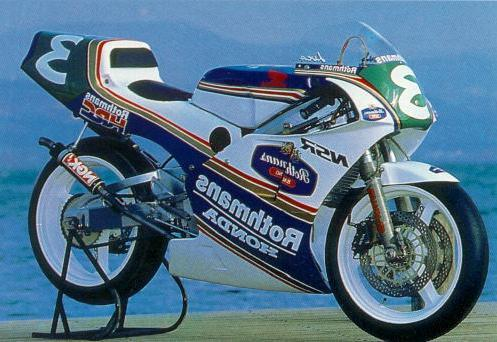motorcycle: (19, 18, 497, 342)
